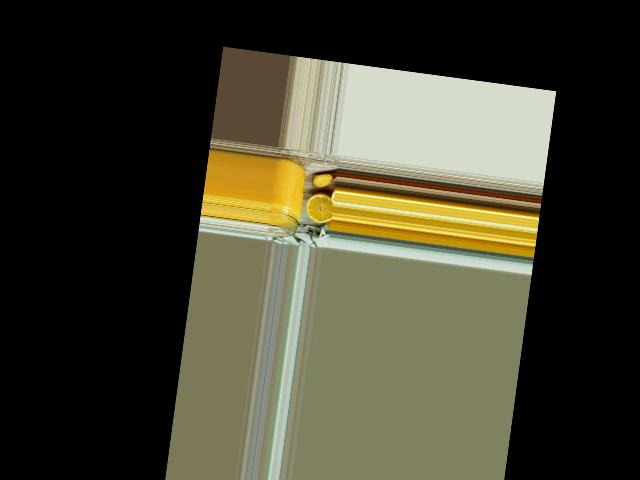lemon: (304, 191, 333, 225)
